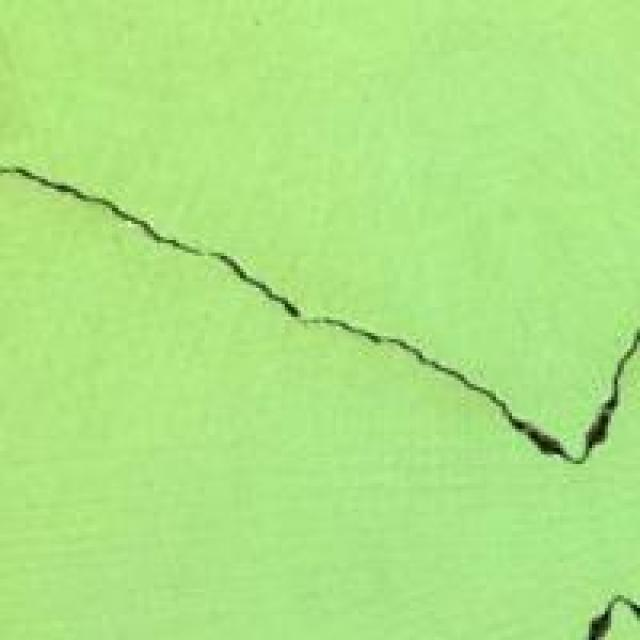crack: (6, 125, 637, 477)
